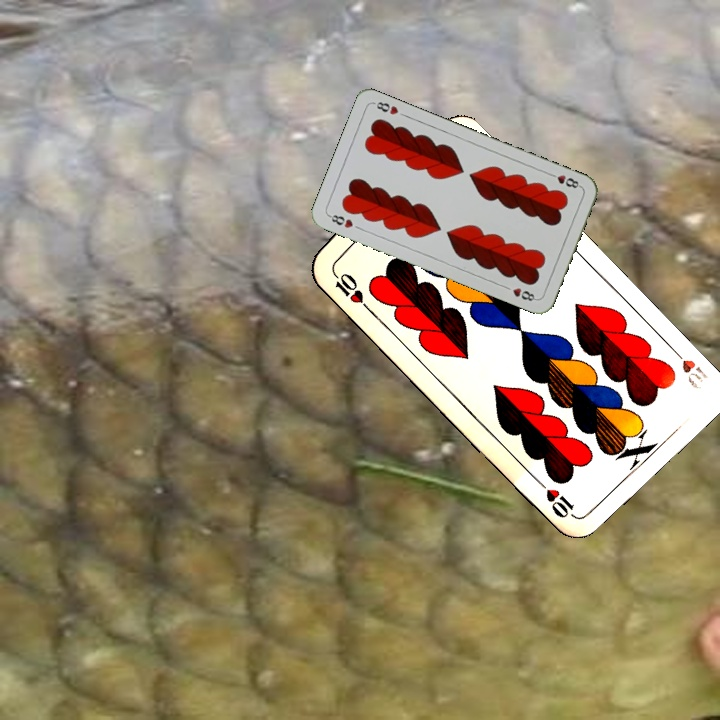H10: (665, 342, 710, 393), (327, 265, 372, 313)
H8: (545, 169, 584, 191), (325, 210, 356, 231)
